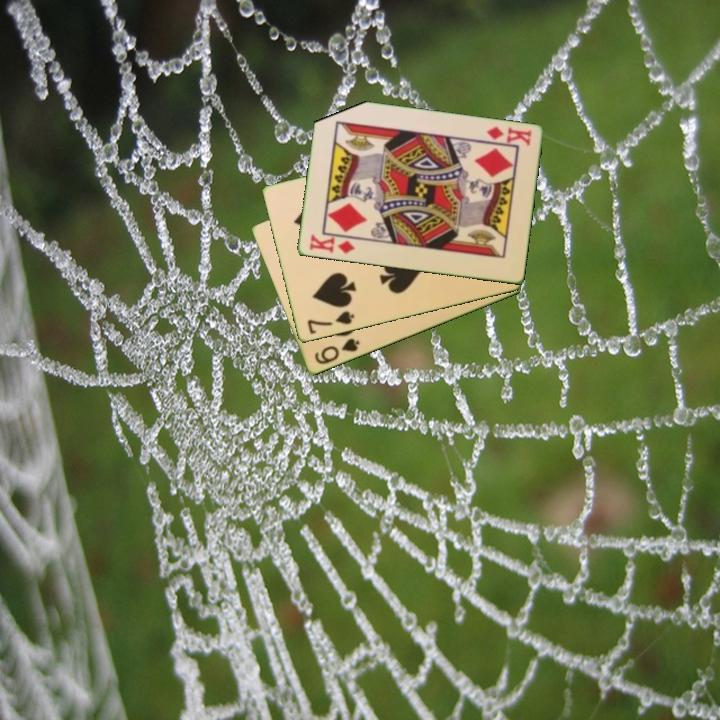6s: (311, 335, 363, 368)
7s: (303, 308, 357, 337)
Kd: (305, 231, 358, 257), (483, 123, 534, 149)
